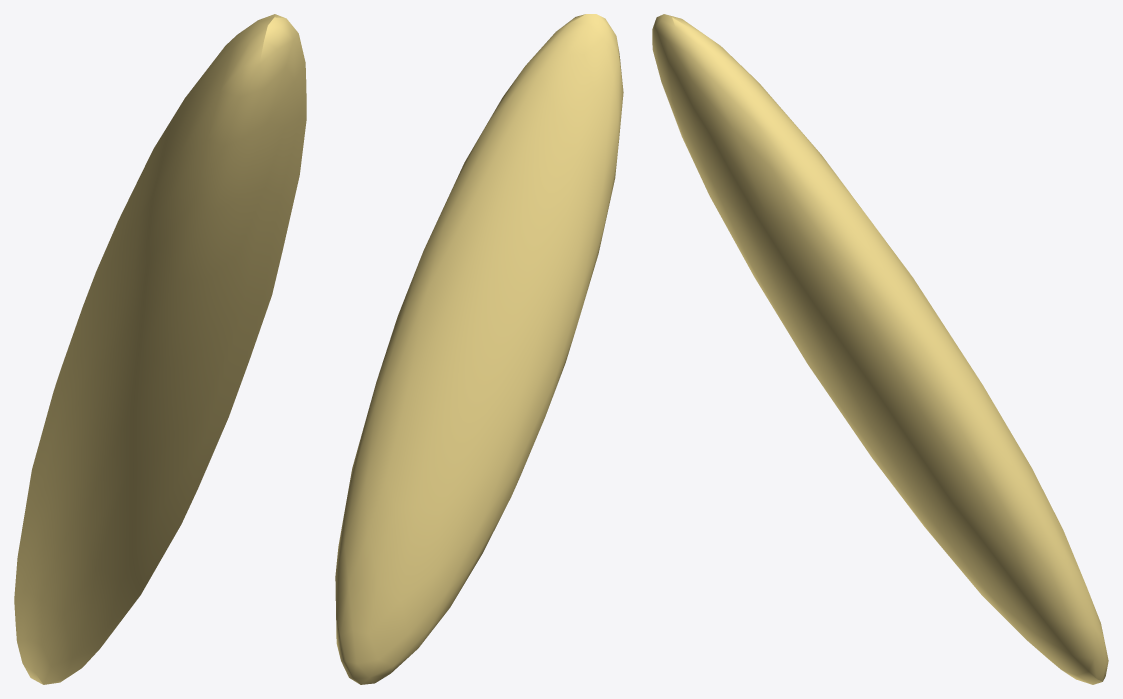
Rendered from fma73779_mm3505m.glb.
3 renders of one model, left to right at view 1: azimuth 30°, elevation 25°; view 2: azimuth 150°, elevation 25°; view 3: azimuth 270°, elevation 25°, orthographic. The views are drawn at different scales.
Visible parts, largest first — view 1: FMA73779_MM3505M; view 2: FMA73779_MM3505M; view 3: FMA73779_MM3505M.
Part boxes in pixels (<box>): FMA73779_MM3505M: <box>14,14,306,684</box>; FMA73779_MM3505M: <box>335,14,623,684</box>; FMA73779_MM3505M: <box>652,14,1108,684</box>.
Size of the model in its own units: 0.00188 by 0.00691 by 0.00445.
